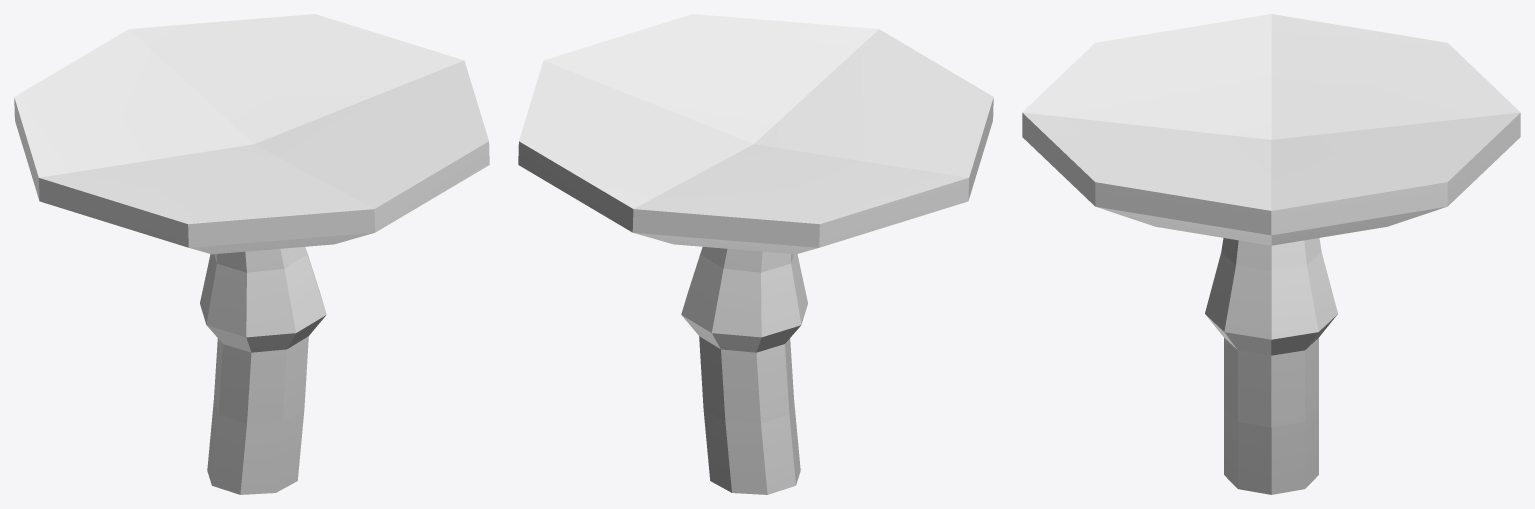
The model's file is Mushroom_flat_white.fbx.
The picture shows the model from 3 angles, left to right: view 1: azimuth 30°, elevation 25°; view 2: azimuth 150°, elevation 25°; view 3: azimuth 270°, elevation 25°; orthographic projection.
Visible parts, largest first — view 1: Mushroom_flat_white; view 2: Mushroom_flat_white; view 3: Mushroom_flat_white.
Boxes of the visible parts, x1,y1,x2,y2 form: Mushroom_flat_white: [14, 14, 489, 494]; Mushroom_flat_white: [518, 14, 993, 494]; Mushroom_flat_white: [1022, 14, 1520, 494].
Size of the model in its own units: 0.3686 by 0.3004 by 0.3681.
